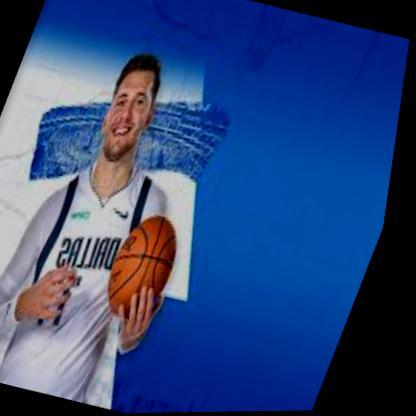basketball: (102, 209, 198, 323)
